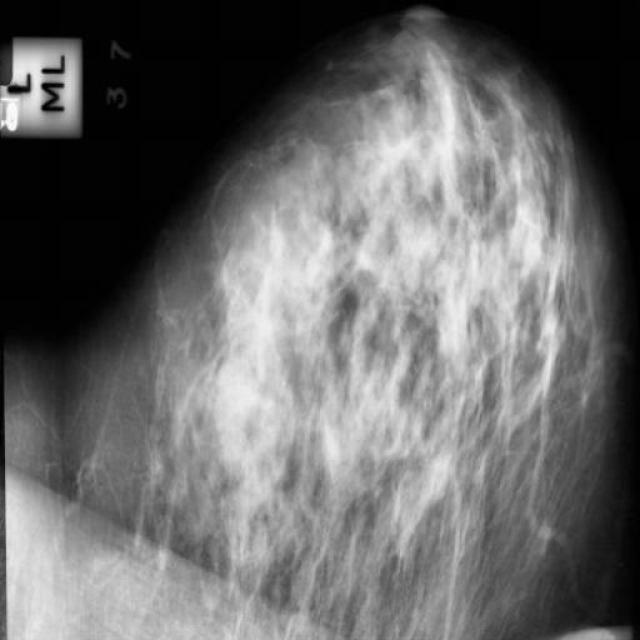cancer: (233, 191, 268, 254)
